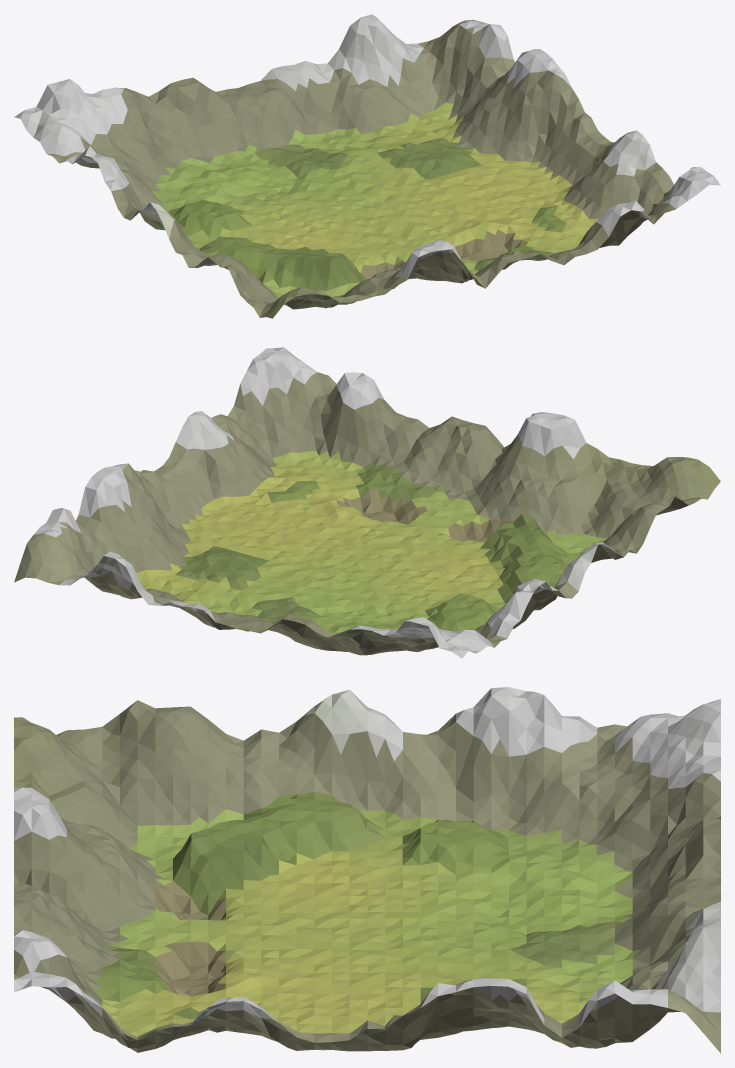
File: ground_1_temperate.fbx
3 renders of one model, top to bottom at view 1: azimuth 30°, elevation 25°; view 2: azimuth 150°, elevation 25°; view 3: azimuth 270°, elevation 25°, orthographic. The views are drawn at different scales.
Parts seen in each view (by area): view 1: ground1_temperate; view 2: ground1_temperate; view 3: ground1_temperate.
Boxes of the visible parts, x1,y1,x2,y2 form: ground1_temperate: (14,14,720,318); ground1_temperate: (14,347,720,658); ground1_temperate: (14,687,720,1053).
Bounding box in the file's own units: 325 × 65.65 × 325.
Materials: 1 (1 with a texture image).
